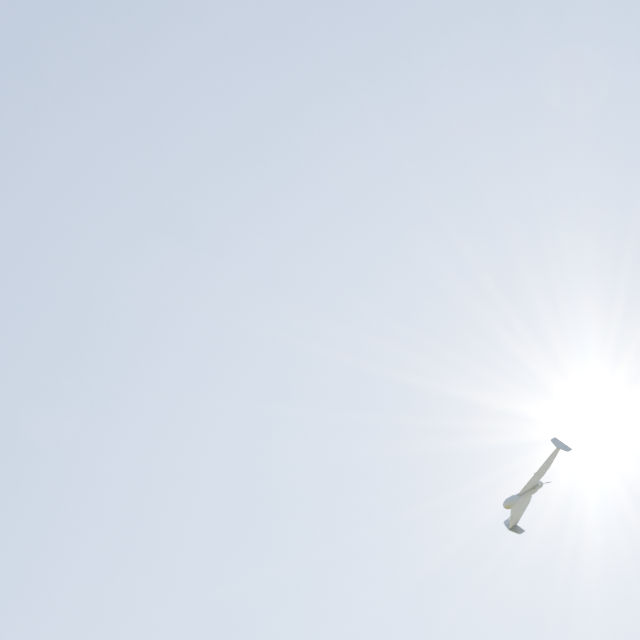shahed: (503, 436, 574, 534)
